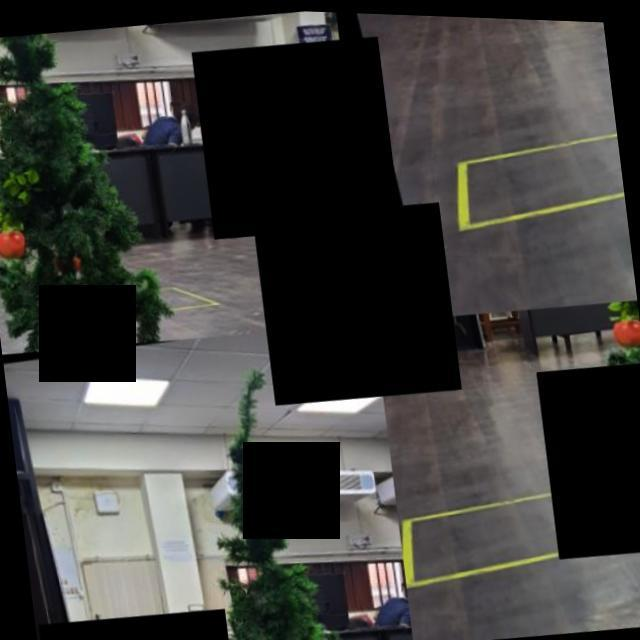Tree: (116, 335, 403, 640), (1, 23, 159, 383), (539, 268, 640, 562)
